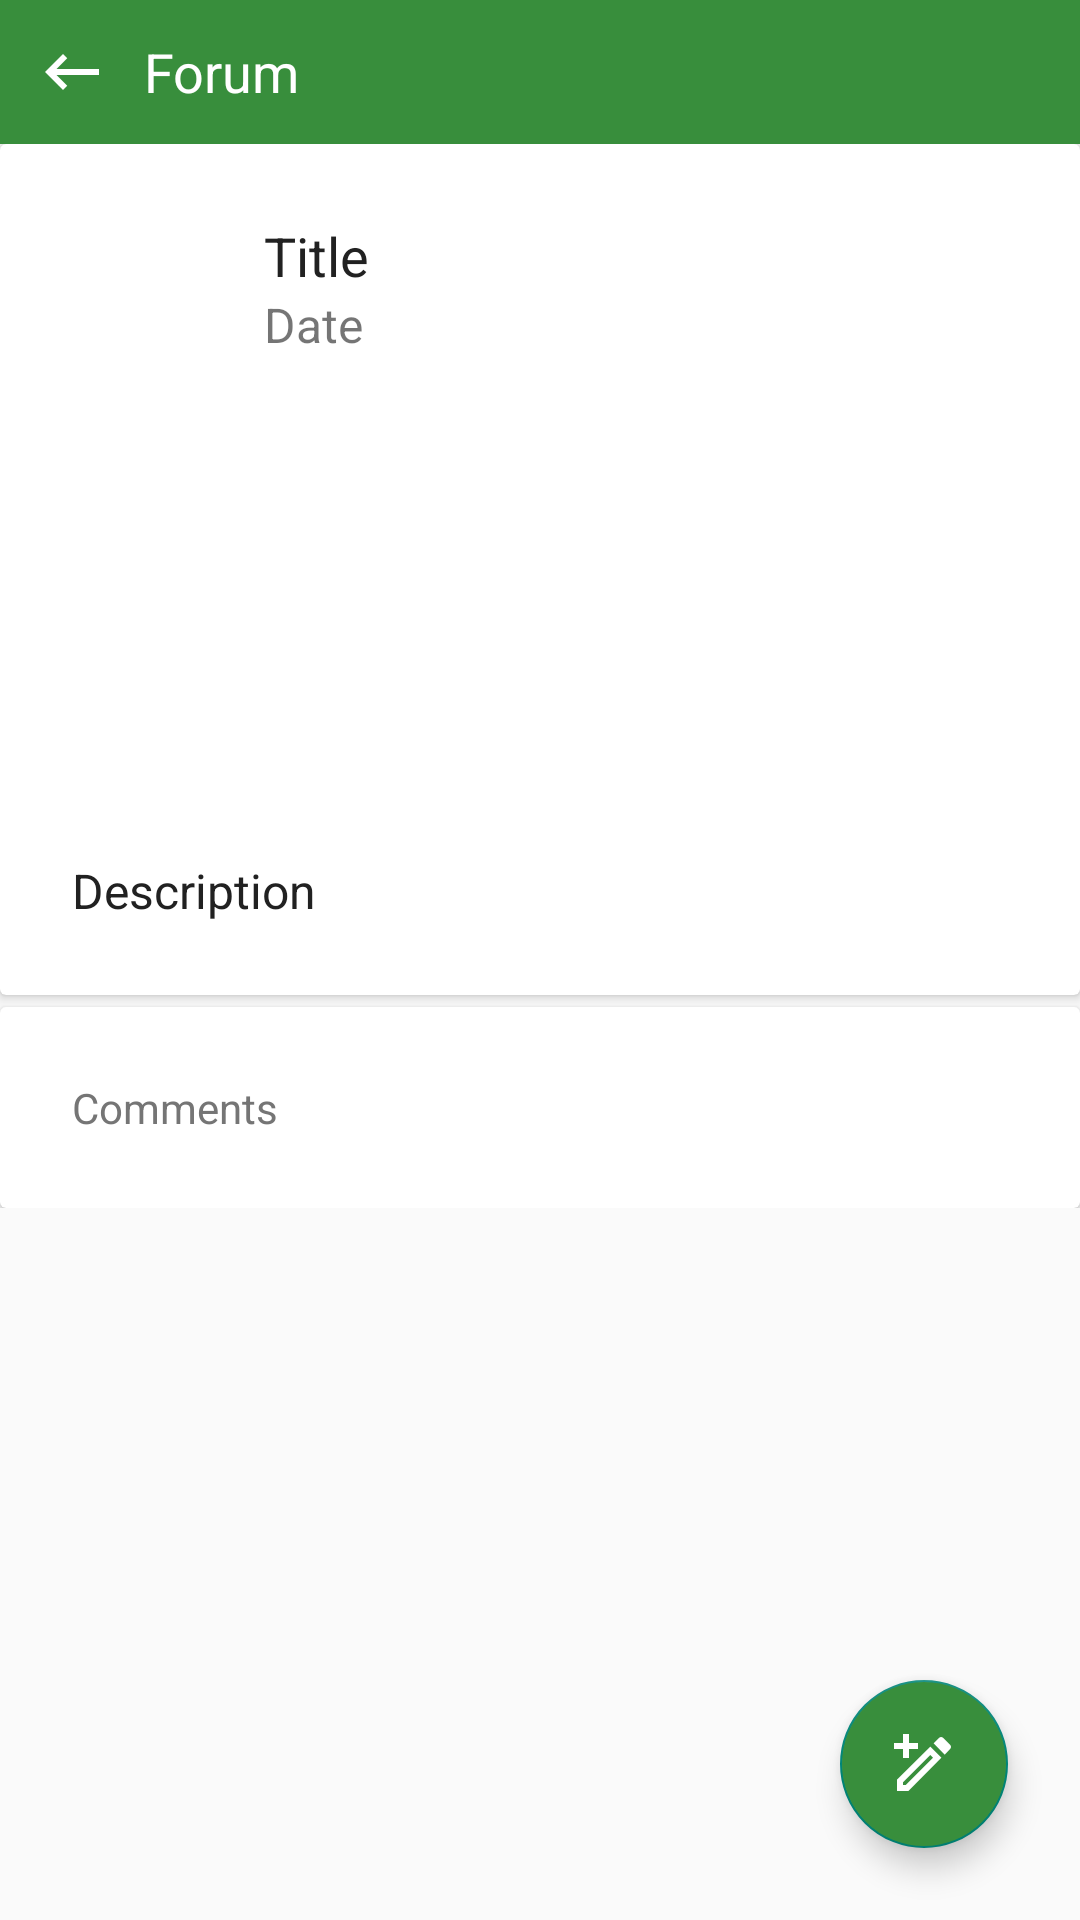

Where icons sit on this 1080px×1920px app screen, as (x1, y1, x2, y2):
keyboard backspace: (45, 54, 99, 90)
pencil plus: (840, 1680, 1008, 1848)
